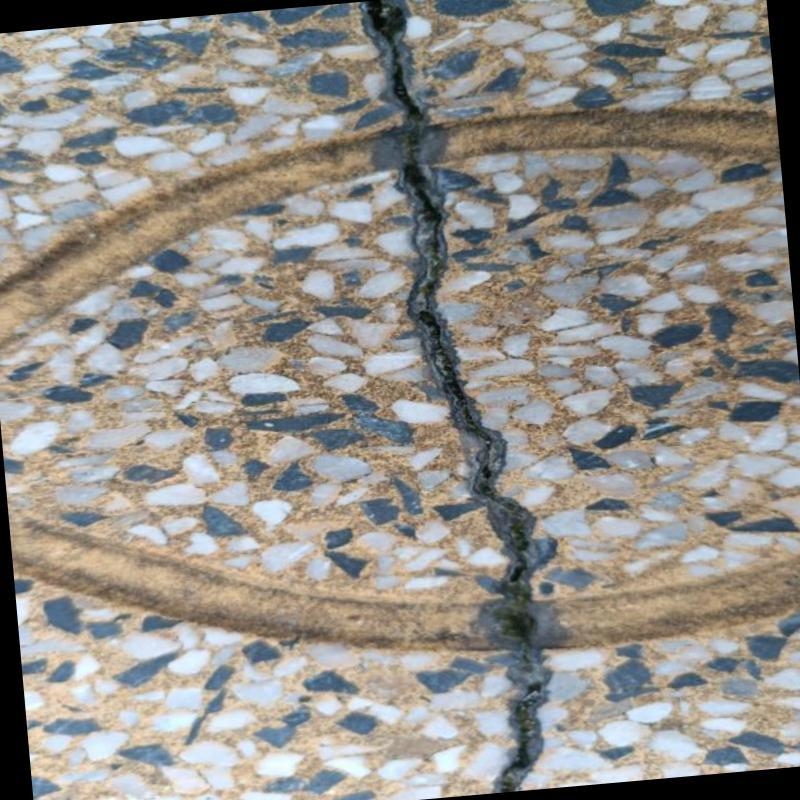pothole: (360, 0, 549, 792)
